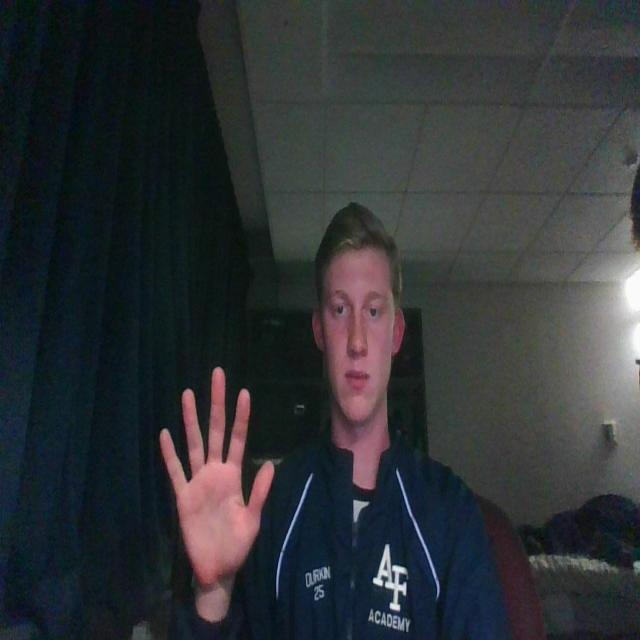paper: (156, 358, 278, 596)
